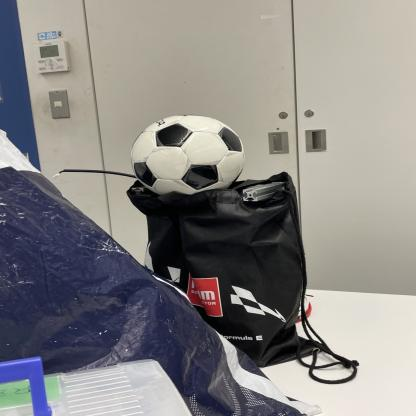ball: (128, 116, 244, 193)
